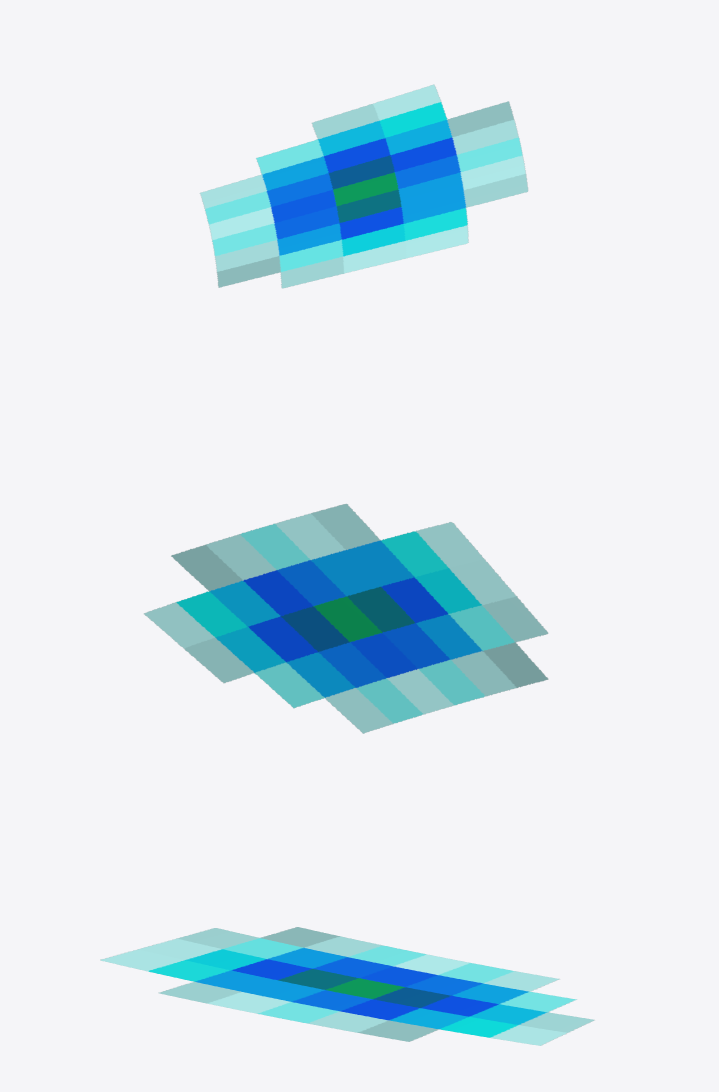
Rendered from KLOT_20030327_054711_REF_1462-274.png.dae.
The picture shows the model from 3 angles, top to bottom: view 1: azimuth 30°, elevation 25°; view 2: azimuth 150°, elevation 25°; view 3: azimuth 270°, elevation 25°; orthographic projection. The views are drawn at different scales.
Visible parts, largest first — view 1: TIN; view 2: TIN; view 3: TIN.
Boxes of the visible parts, bbox=[...] form: TIN: bbox=[199, 84, 528, 288]; TIN: bbox=[144, 504, 548, 733]; TIN: bbox=[100, 927, 594, 1045].
Bounding box in the file's own units: 7881 × 8594 × 2782.
Materials: 1 (1 with a texture image).
